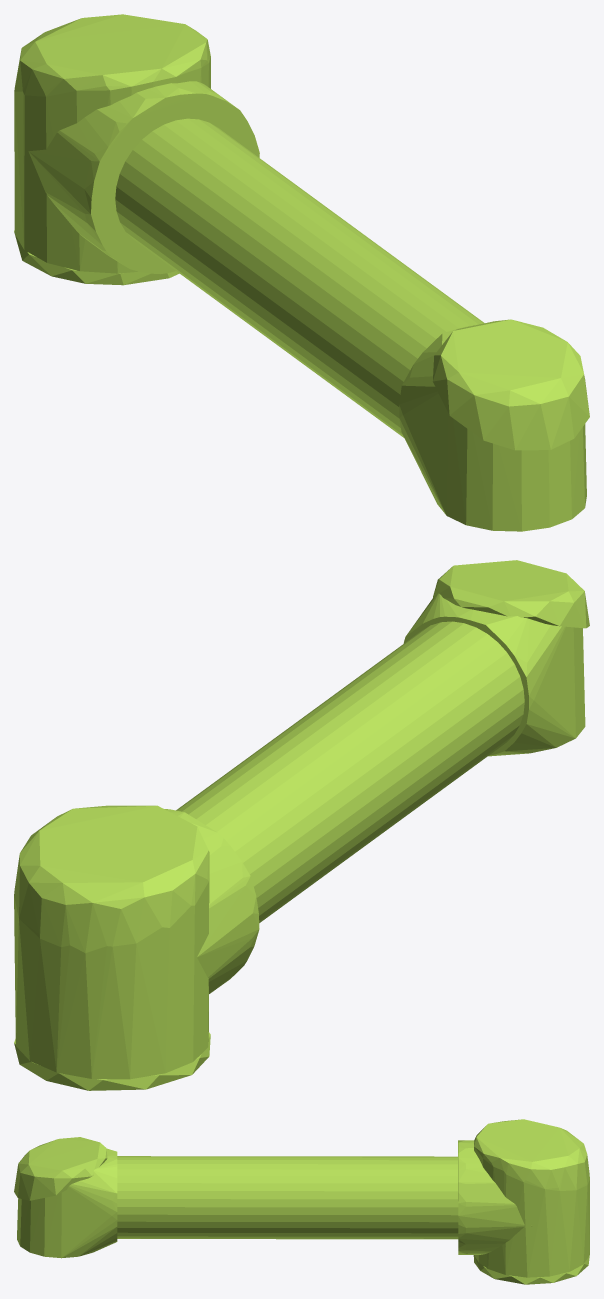
The picture shows the model from 3 angles, top to bottom: view 1: azimuth 30°, elevation 25°; view 2: azimuth 150°, elevation 25°; view 3: azimuth 270°, elevation 25°; orthographic projection. The views are drawn at different scales.
Visible parts, largest first — view 1: Node_0000017FEC30E890 (×6); view 2: Node_0000017FEC30E890 (×6); view 3: Node_0000017FEC30E890 (×6).
Part boxes in pixels (box(x1,y1,x2,y2)): Node_0000017FEC30E890 (×6): box(14, 14, 589, 531); Node_0000017FEC30E890 (×6): box(14, 560, 589, 1090); Node_0000017FEC30E890 (×6): box(14, 1119, 589, 1284).
Size of the model in its own units: 0.1513 by 0.1775 by 0.7491.
